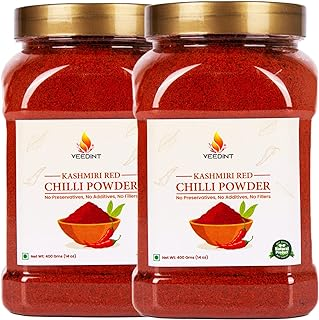Chilli Powder: (135, 2, 319, 320), (2, 1, 136, 318)
